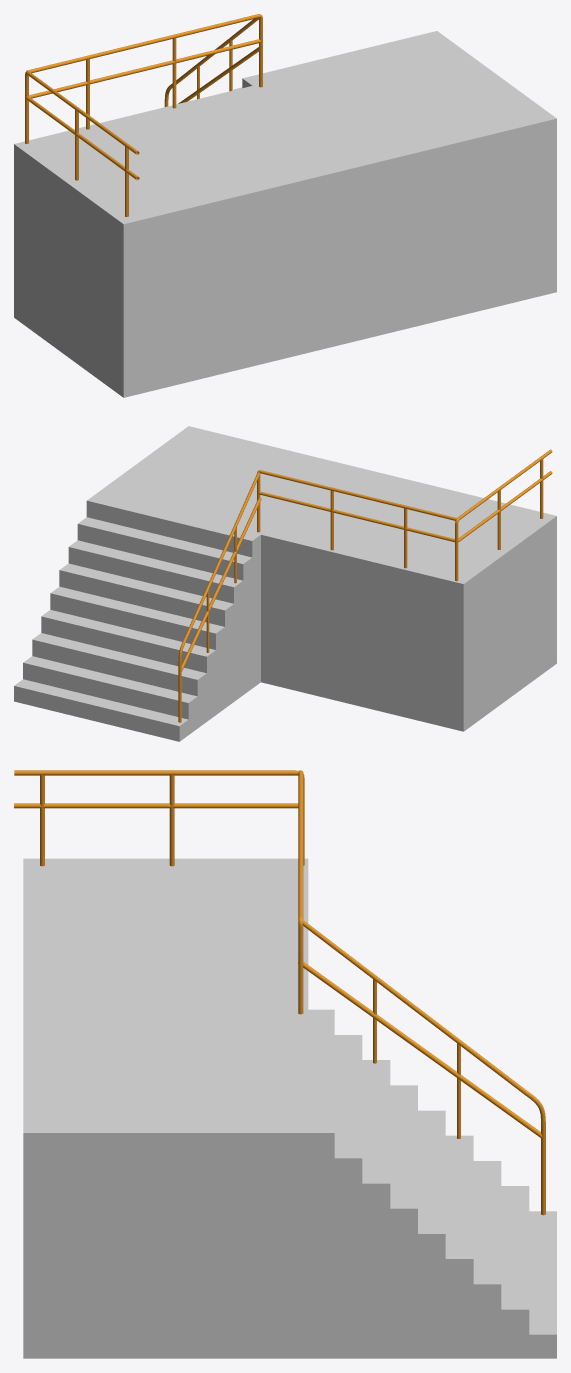
The model's file is SM_Stair_Room_3.fbx.
The picture shows the model from 3 angles, top to bottom: view 1: azimuth 30°, elevation 25°; view 2: azimuth 150°, elevation 25°; view 3: azimuth 270°, elevation 25°; orthographic projection. The views are drawn at different scales.
Parts seen in each view (by area): view 1: Cube.002; view 2: Cube.002; view 3: Cube.002.
Part boxes in pixels (x1,y1,x2,y2): Cube.002: (14, 14, 556, 397); Cube.002: (14, 426, 556, 741); Cube.002: (14, 770, 556, 1358).
Size of the model in its own units: 8.45 by 4.6 by 7.07.
